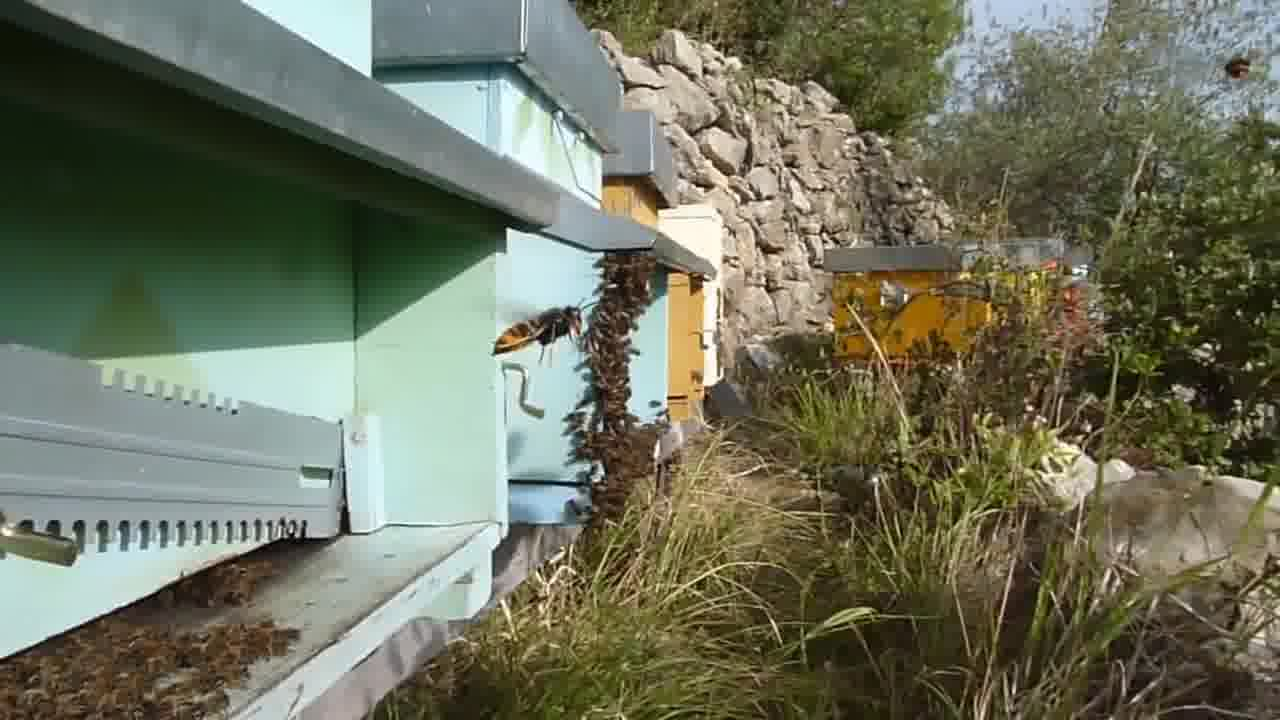bee: (2, 658, 219, 720), (159, 616, 310, 677), (563, 409, 669, 482), (591, 247, 656, 320), (171, 562, 268, 610), (589, 324, 643, 410), (48, 632, 164, 657)
hornet: (486, 294, 593, 361)
